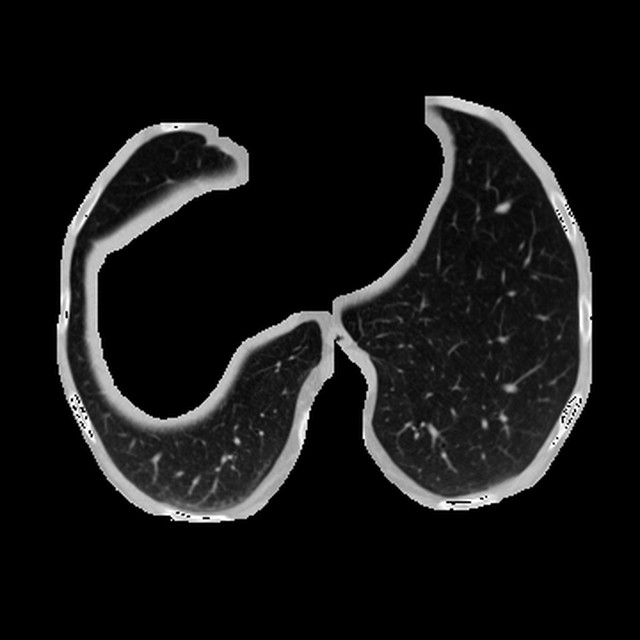PN: (496, 201, 510, 215)
